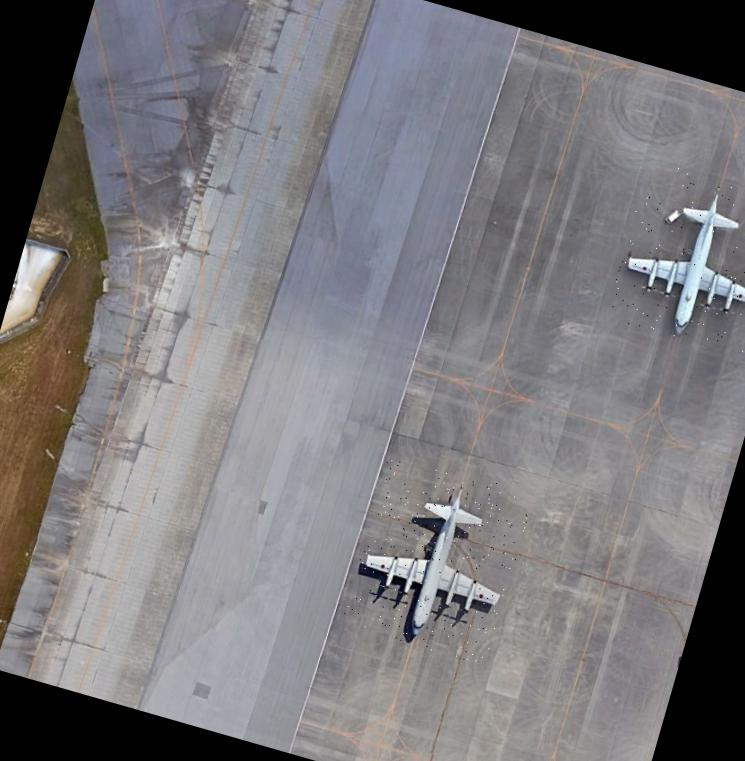A9: (340, 448, 535, 665), (605, 155, 745, 358)
